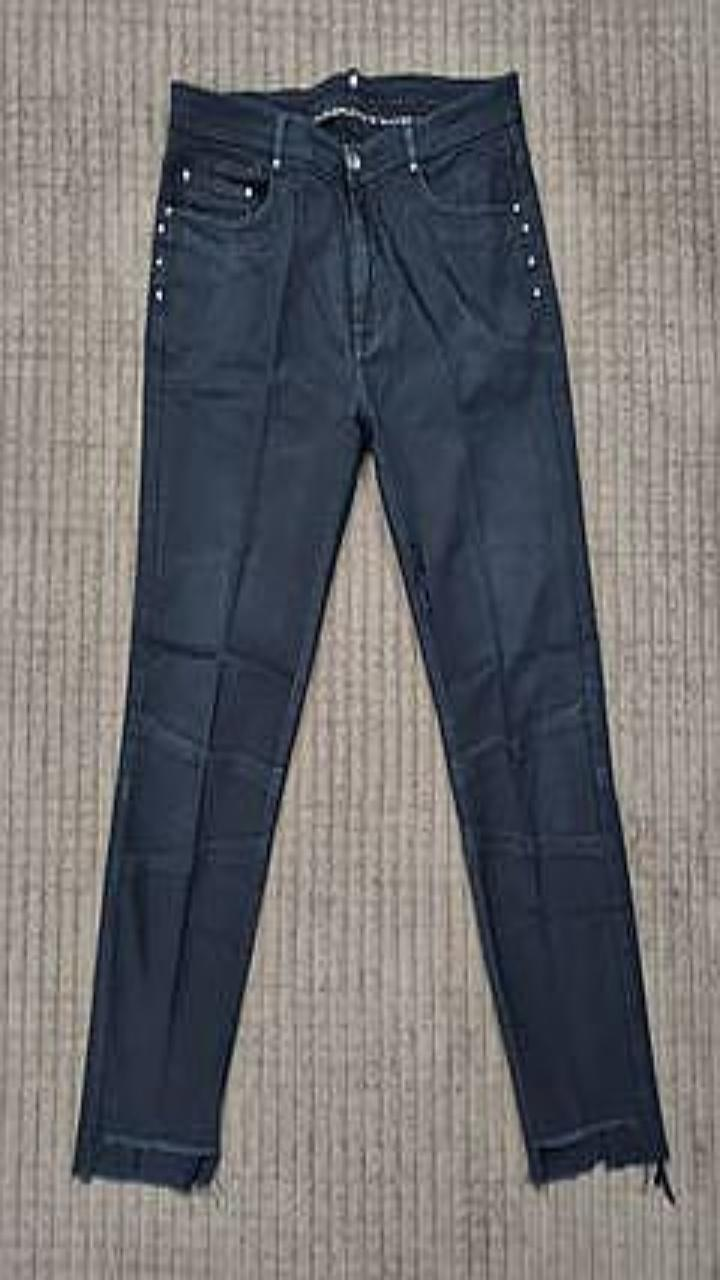Jeans: (73, 68, 673, 1198)
